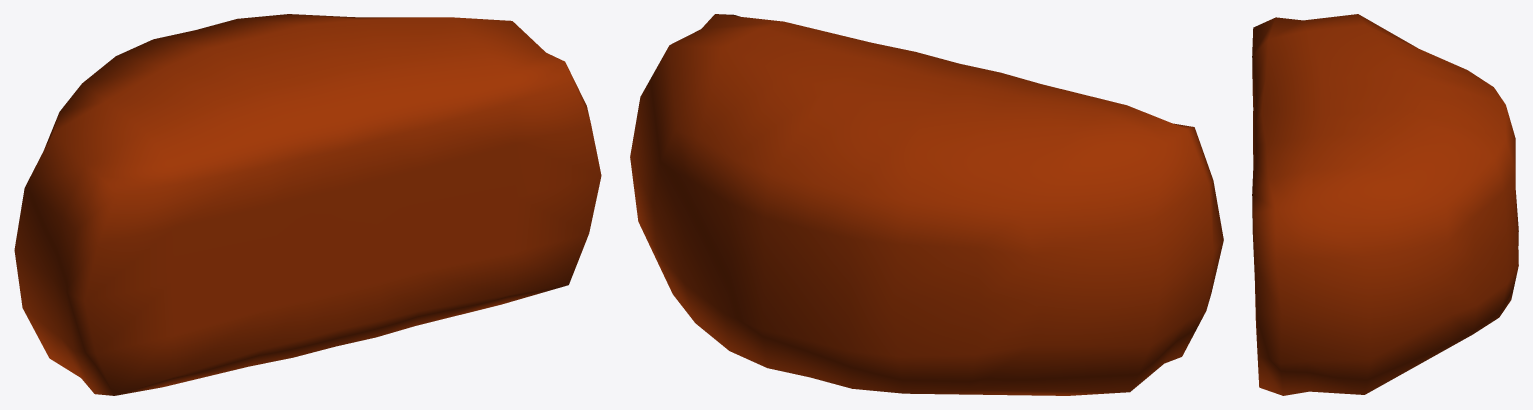
The model's file is Body4.dae.
3 renders of one model, left to right at view 1: azimuth 30°, elevation 25°; view 2: azimuth 150°, elevation 25°; view 3: azimuth 270°, elevation 25°, orthographic. The views are drawn at different scales.
Parts seen in each view (by area): view 1: Body4; view 2: Body4; view 3: Body4.
Part boxes in pixels (box(x1,y1,x2,y2)): Body4: box(14, 14, 601, 395); Body4: box(630, 14, 1223, 395); Body4: box(1252, 14, 1518, 395).
Bounding box in the file's own units: 0.3017 × 0.1574 × 0.148.
